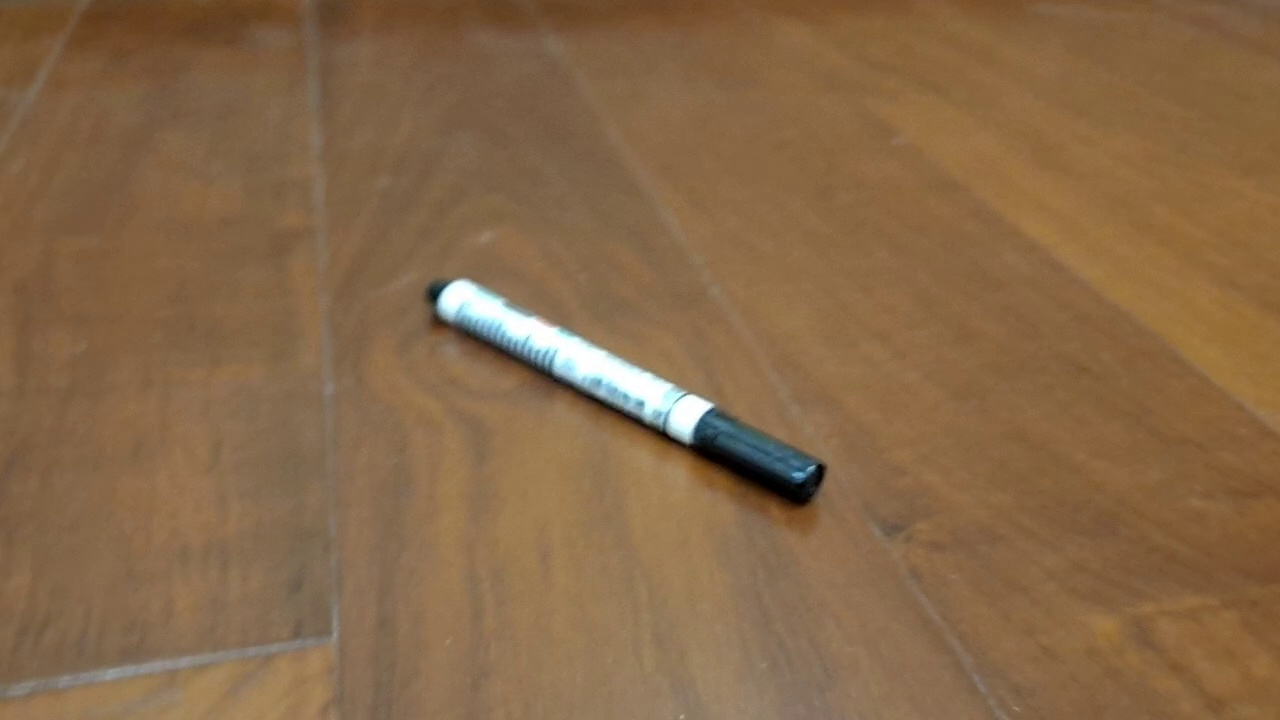pen: (423, 274, 827, 506)
